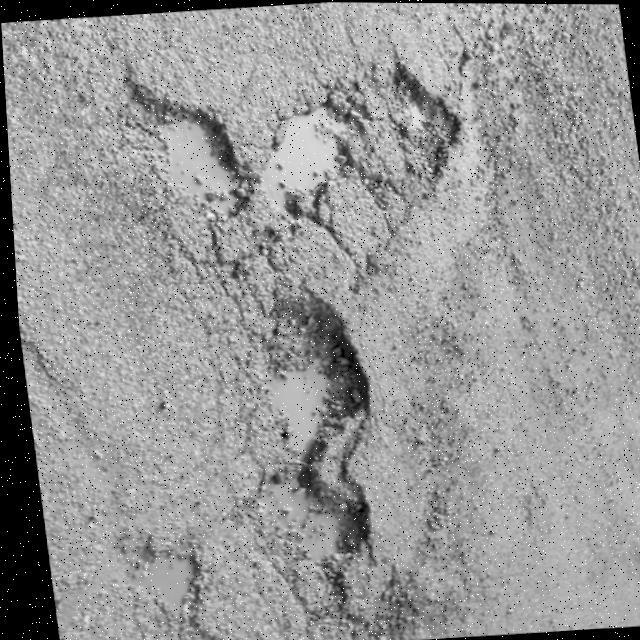pothole: (110, 66, 478, 242), (230, 280, 381, 466), (242, 465, 380, 608)
